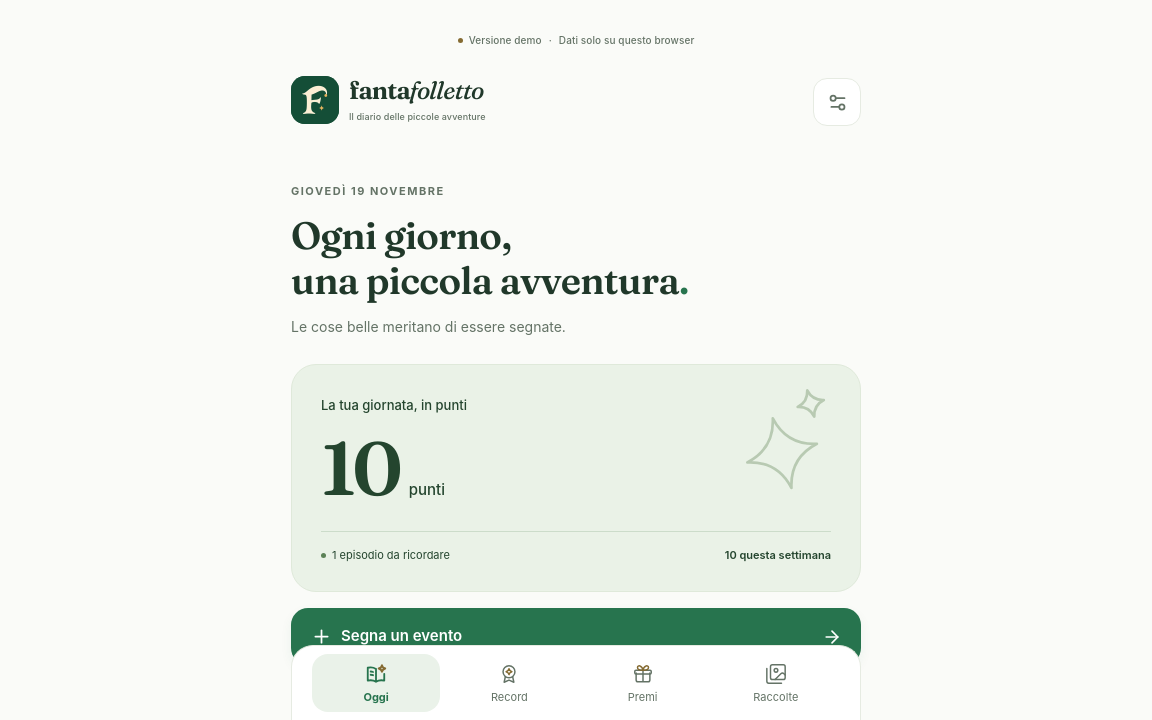
Scenario: la giocatrice vede i filtri, la prossima combo e le sfide già registrate disabilitate
The image size is (1152, 720).
Click the button "Segna un evento". click: click(402, 636)
box: [291,608,861,665]
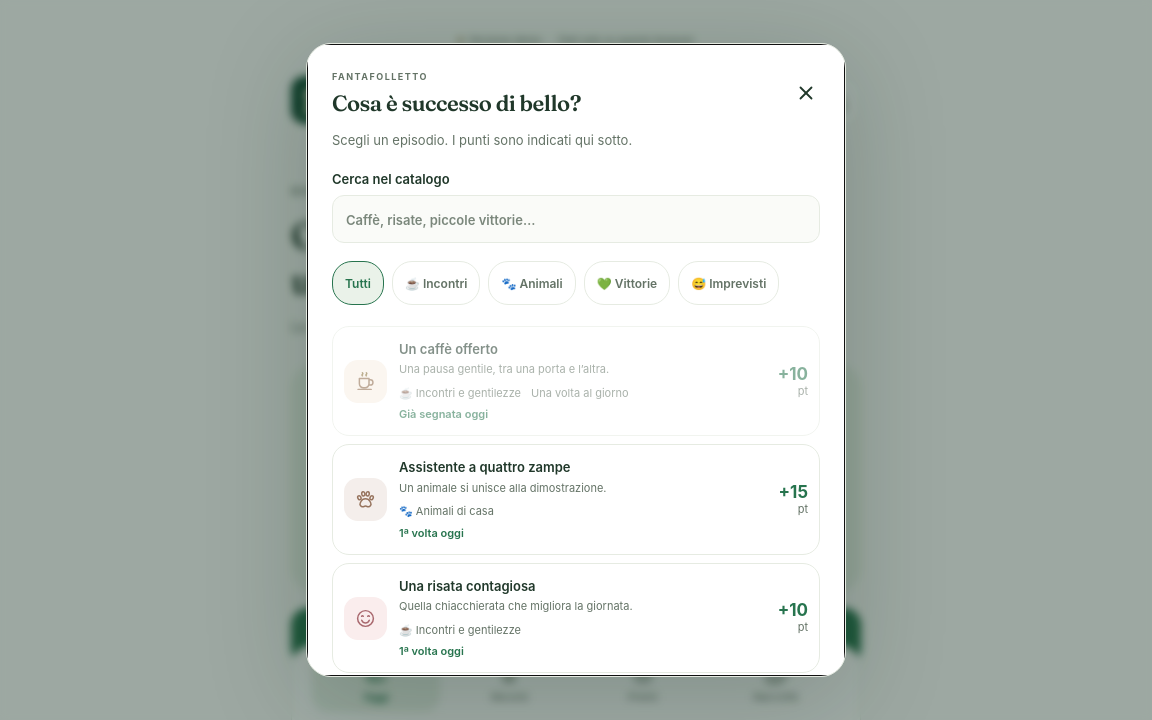
Check: the button "Un caffè offerto" is disabled, box [332,326,820,436]
Click the button "🐾 Animali". click: click(532, 283)
box: [488,261,576,305]
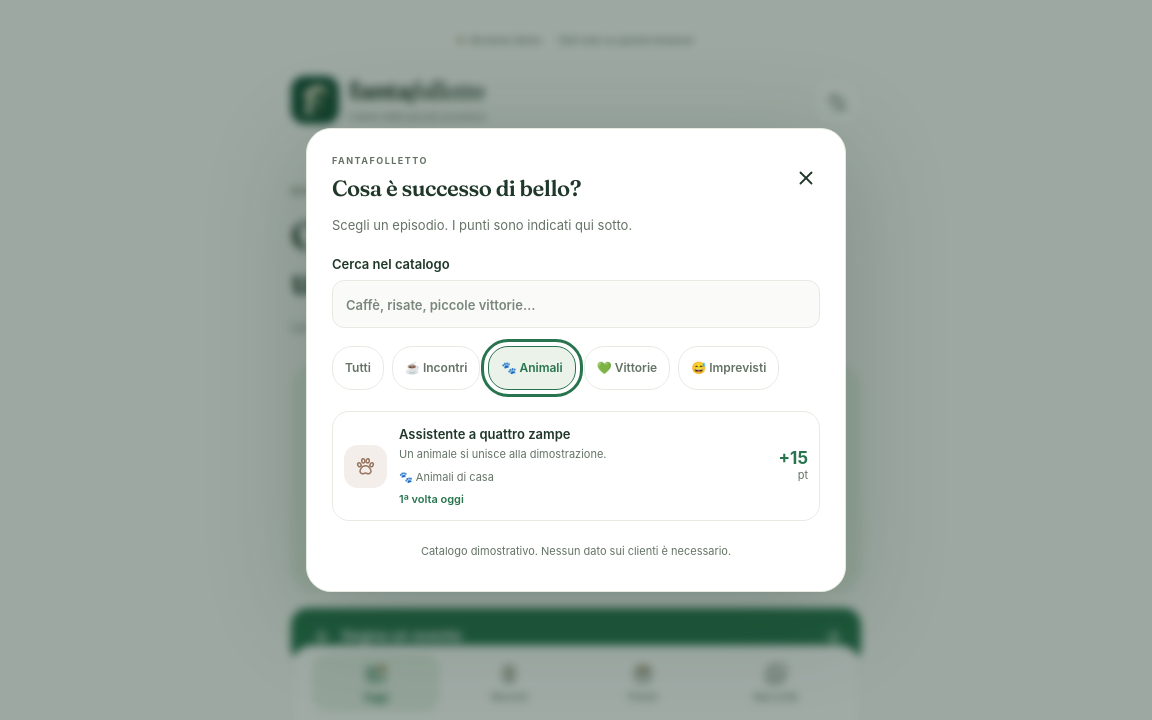
Check: the button "Assistente a quattro zampe" is shown, box [332,411,820,521]
Check: the button "Un caffè offerto" is gone
